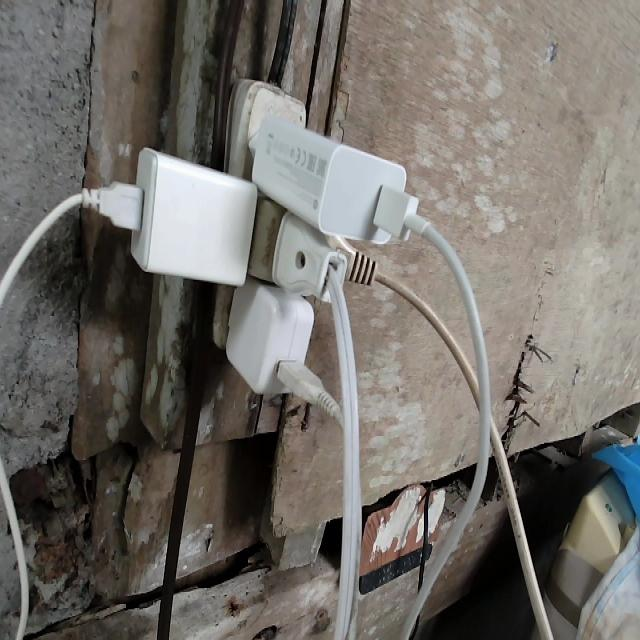-: (112, 80, 427, 401)
